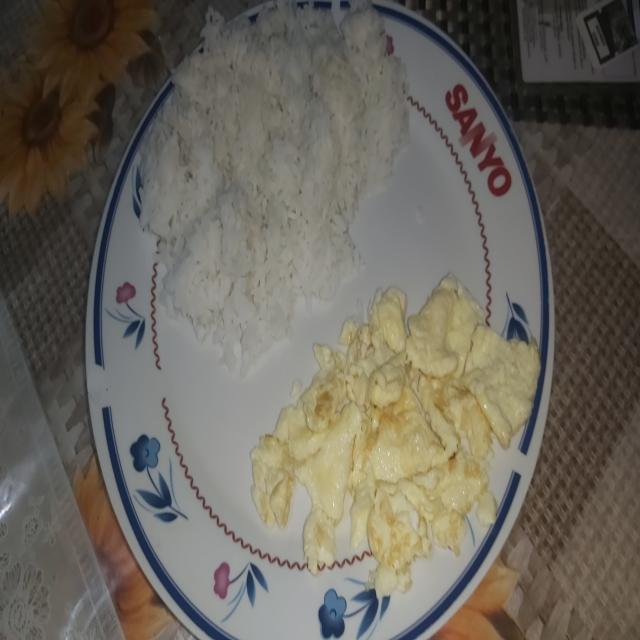Chicken -Chicken Inasal-: (150, 1, 397, 342)
